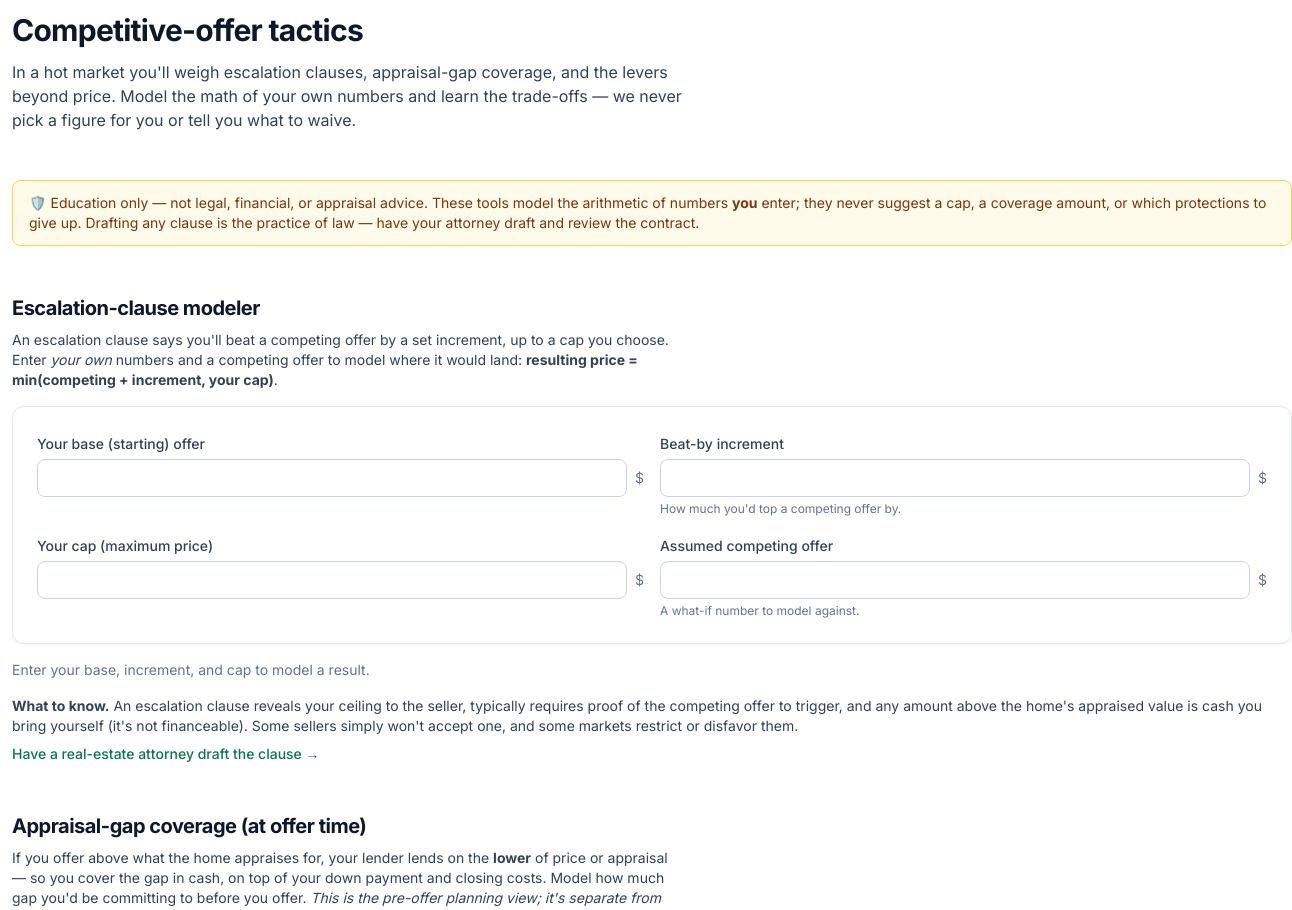
Test case: CompetitiveOfferTactics (A3) › models the escalation result from the buyer's own numbers
Type "400000" into the number field labelled "Your base (starting) offer" at (332, 478), box [37,459,627,497]
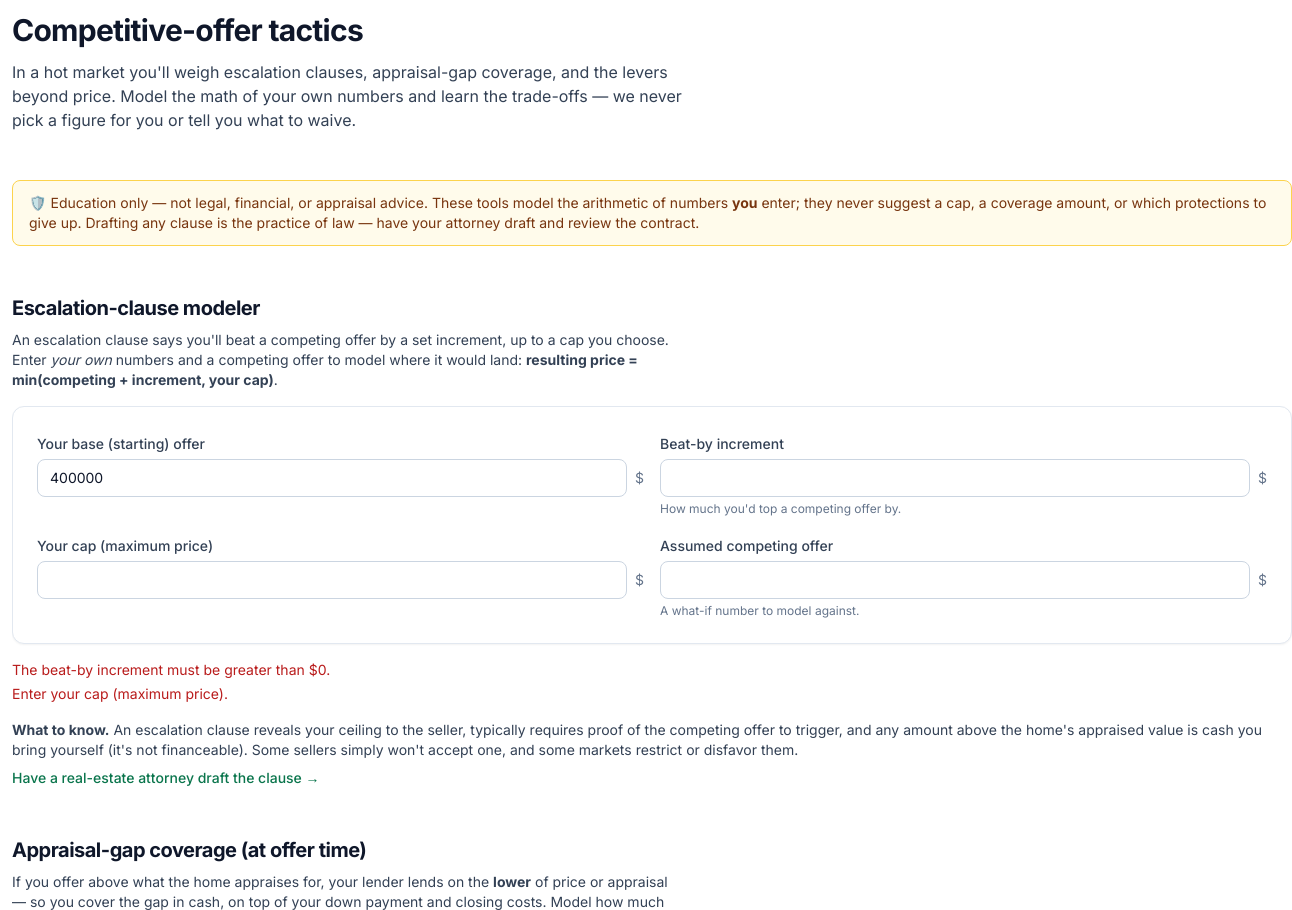
Type "5000" into the number field labelled "Beat-by increment" at (955, 478), box [660,459,1250,497]
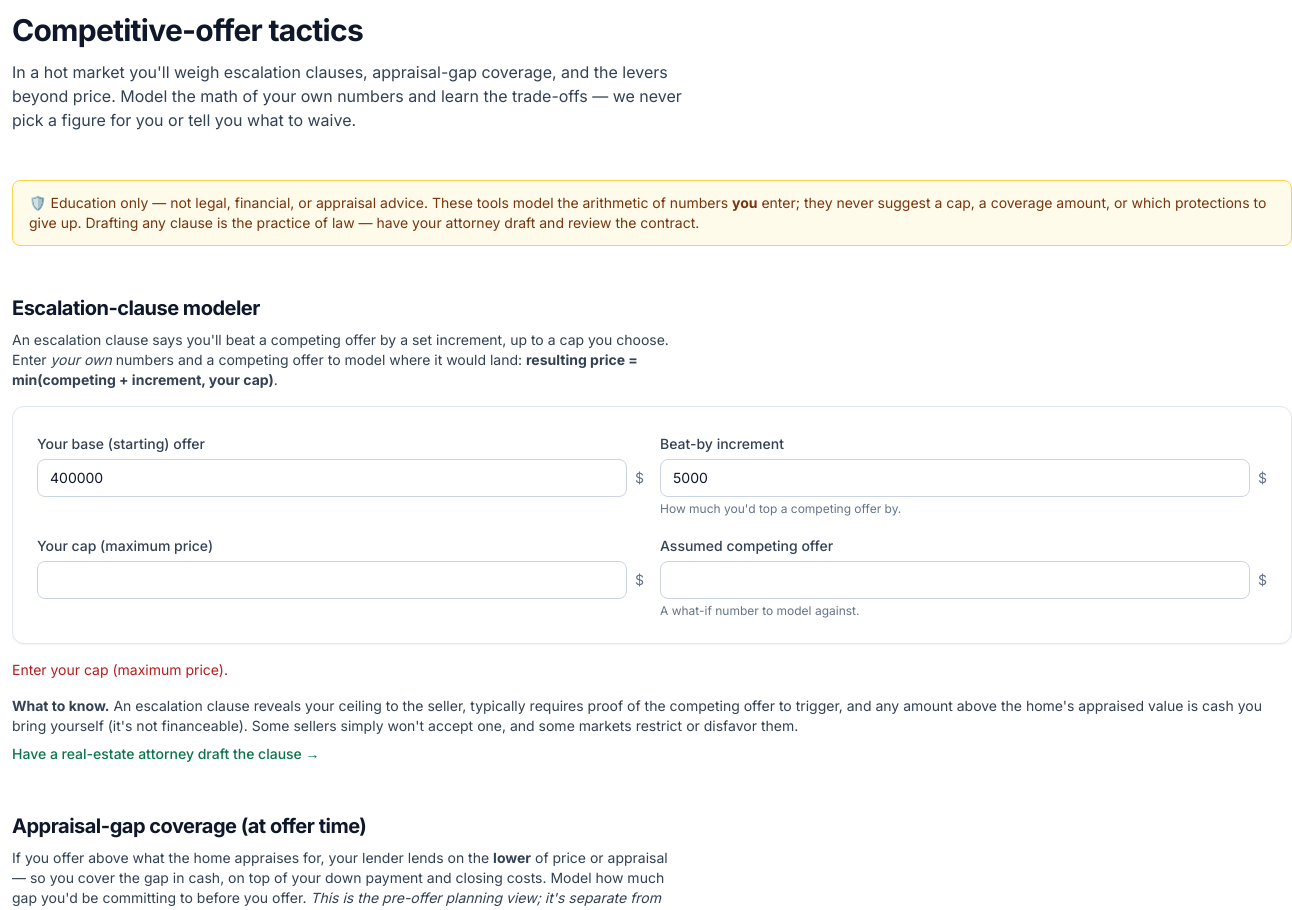
Type "430000" into the number field labelled "Your cap (maximum price)" at (332, 580), box [37,561,627,599]
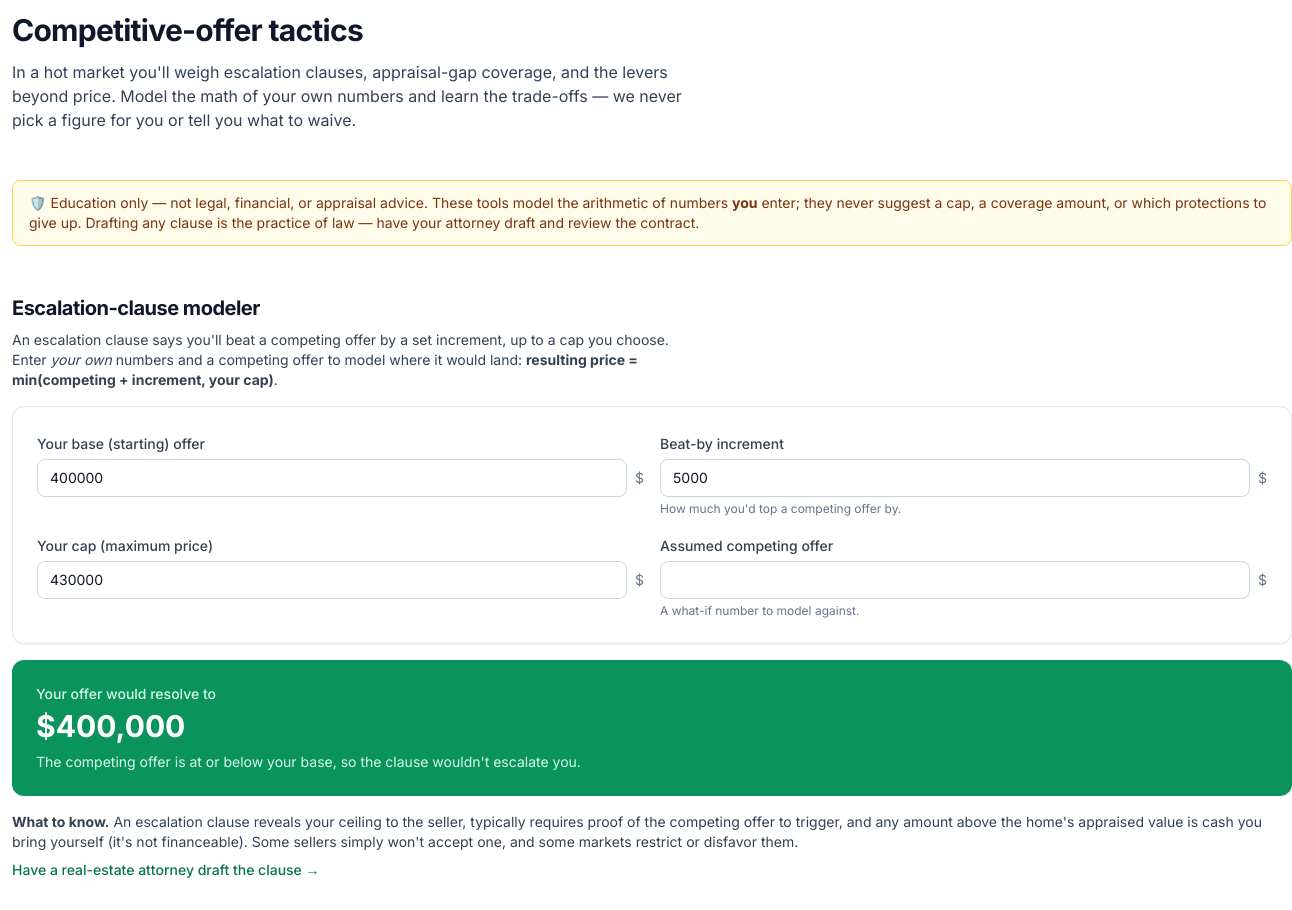
Type "410000" into the number field labelled "Assumed competing offer" at (955, 580), box [660,561,1250,599]
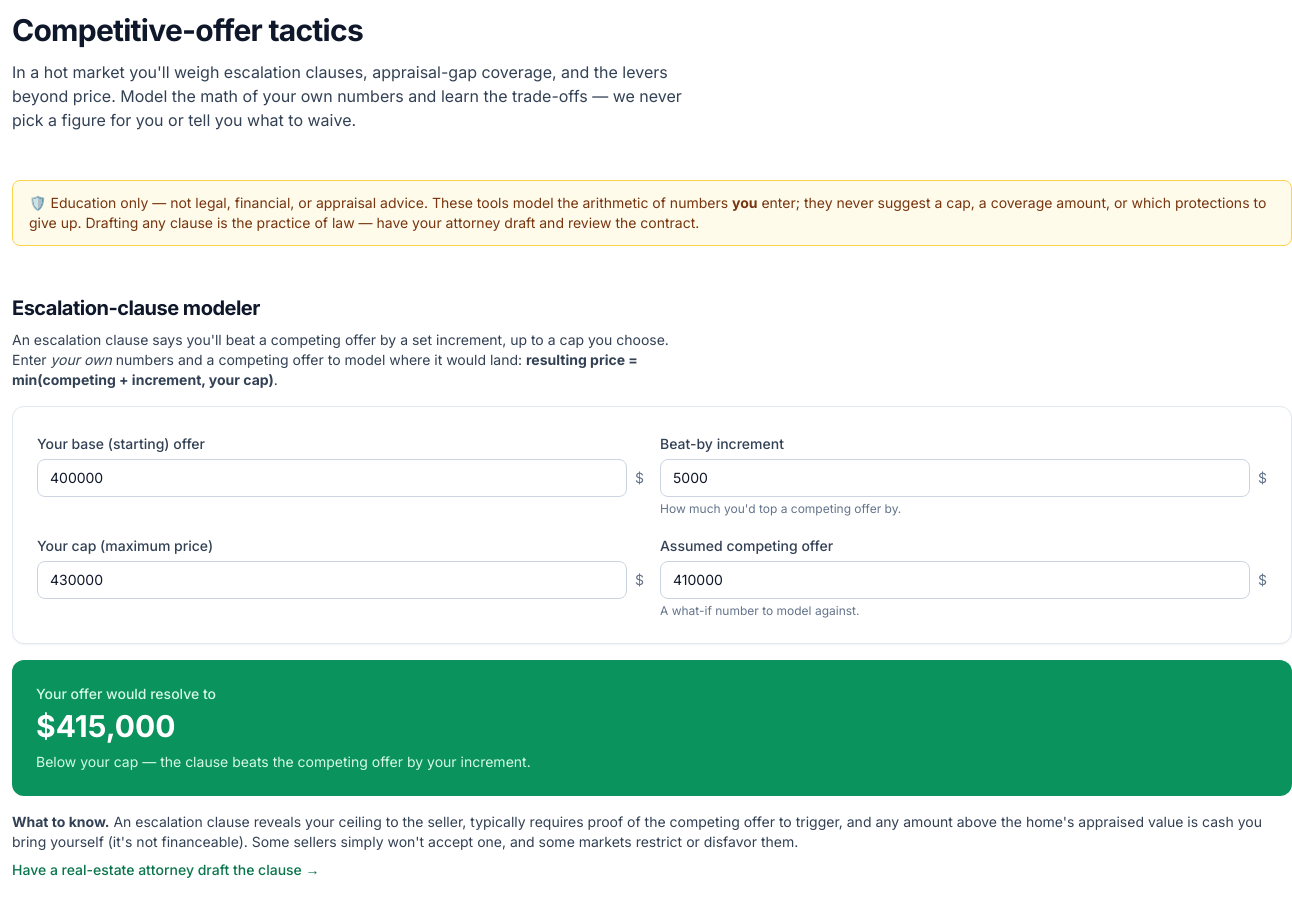
Result: the text "$415,000" is shown at [36,708,176,744]
